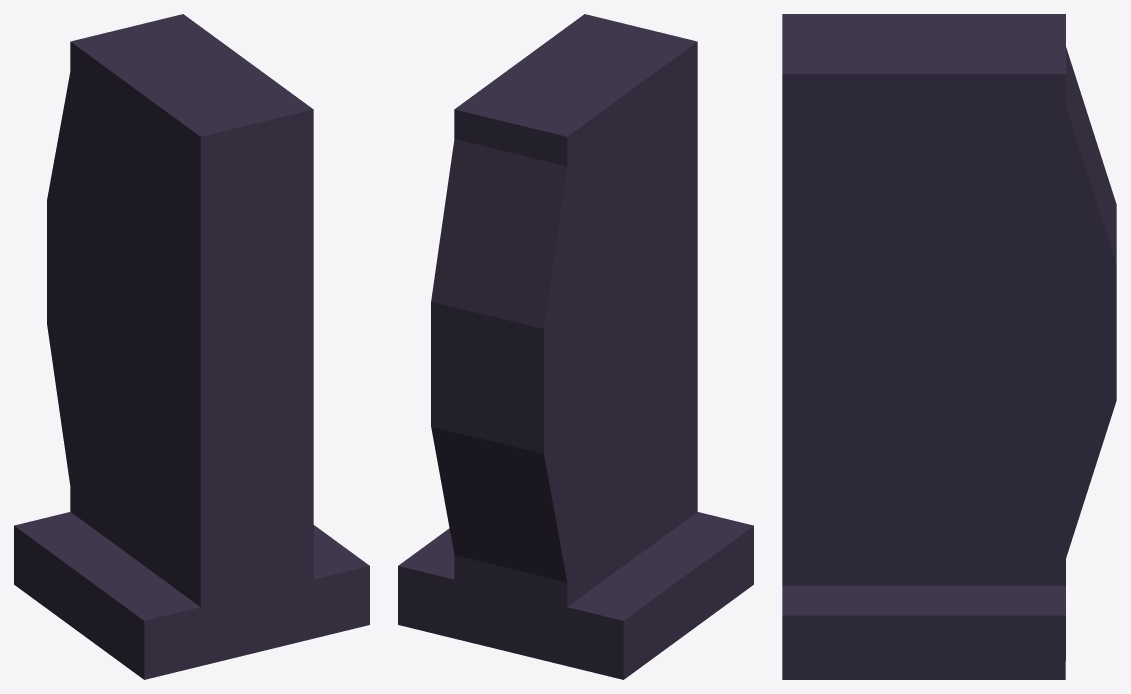
File: GateJoin.fbx
The picture shows the model from 3 angles, left to right: view 1: azimuth 30°, elevation 25°; view 2: azimuth 150°, elevation 25°; view 3: azimuth 270°, elevation 25°; orthographic projection. The views are drawn at different scales.
Visible parts, largest first — view 1: GateJoin; view 2: GateJoin; view 3: GateJoin.
Boxes of the visible parts, box(x1,y1,x2,y2) form: GateJoin: box(14, 14, 369, 679); GateJoin: box(398, 14, 753, 679); GateJoin: box(782, 14, 1116, 679).
Size of the model in its own units: 200 by 448 by 236.
